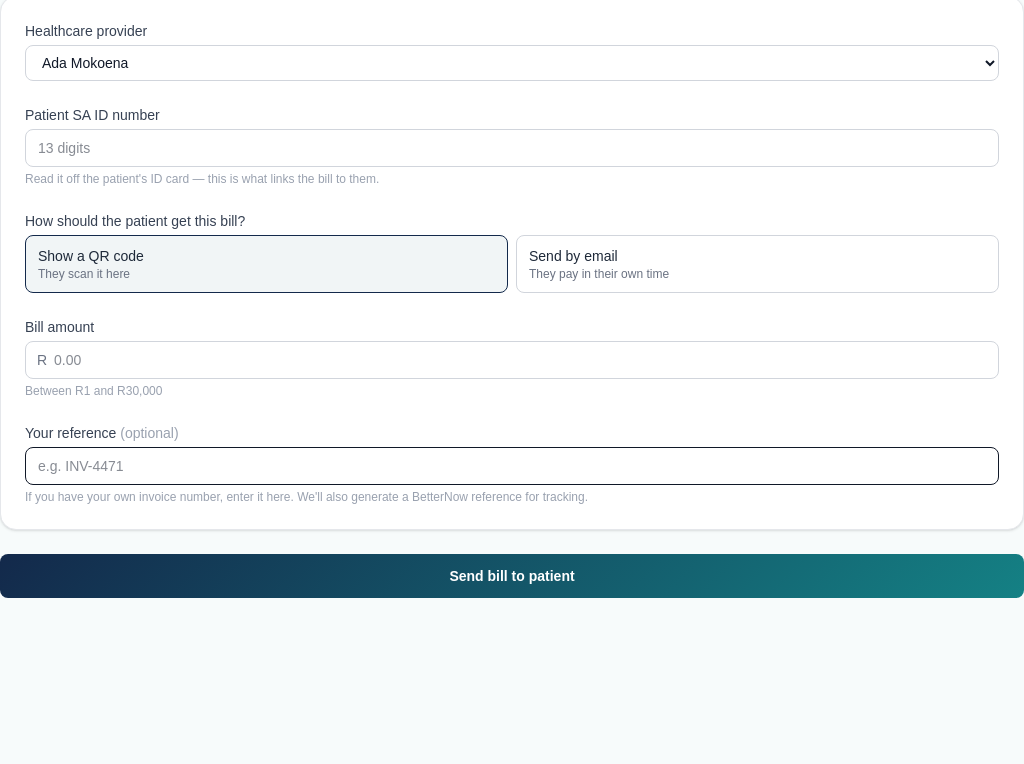
Test: email validation has the same visible treatment (no silent gap) › an empty email is reported inline and blocks submission
Type "9001015800088" into the field with test id "bill-said-input" at (512, 148), box [25,129,999,167]
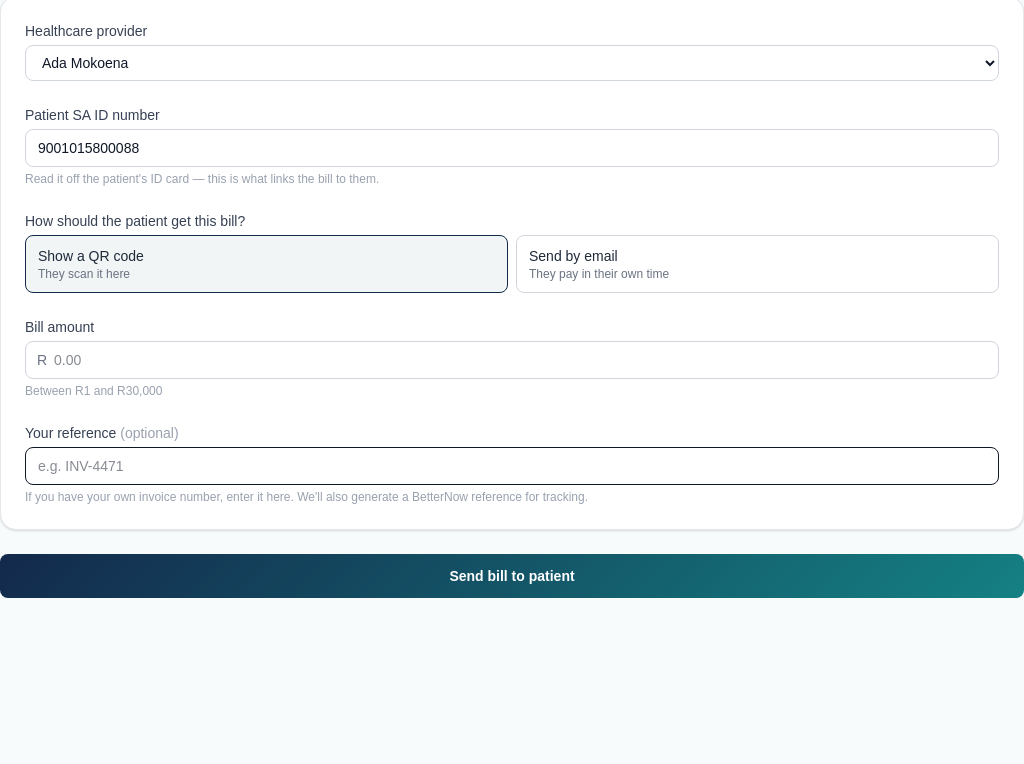
Click the radio button with test id "delivery-email" at (573, 256), box [516,235,999,293]
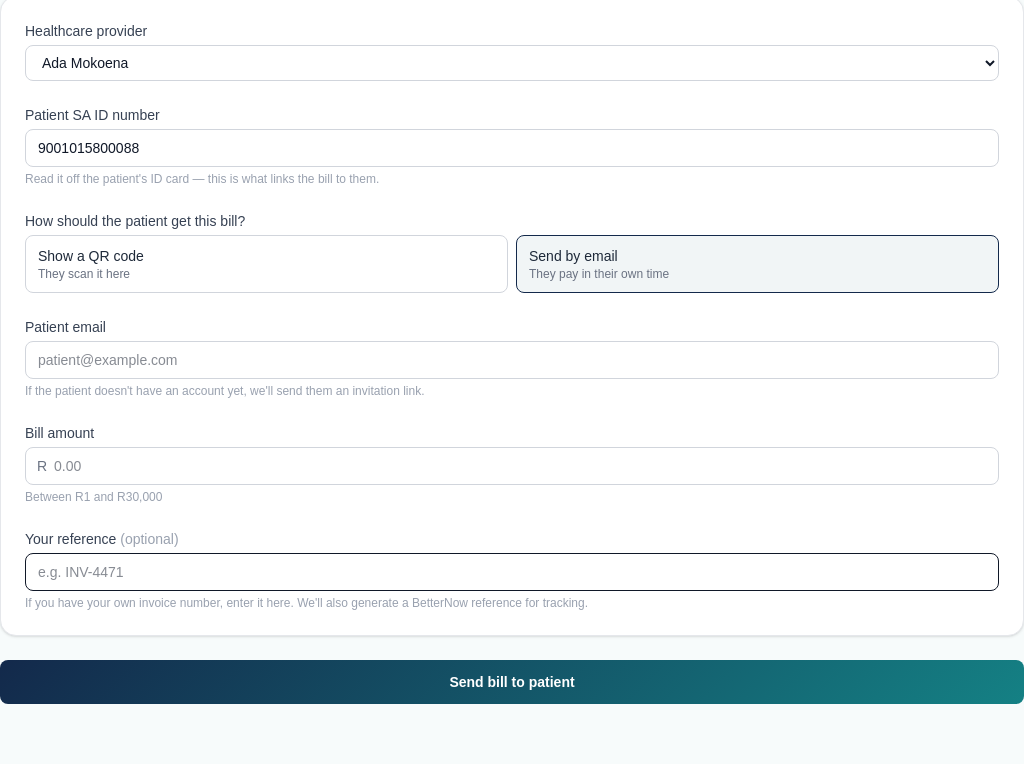
Type "600" into the number field labelled "Bill amount" at (512, 466), box [25,447,999,485]
(page scrolled)
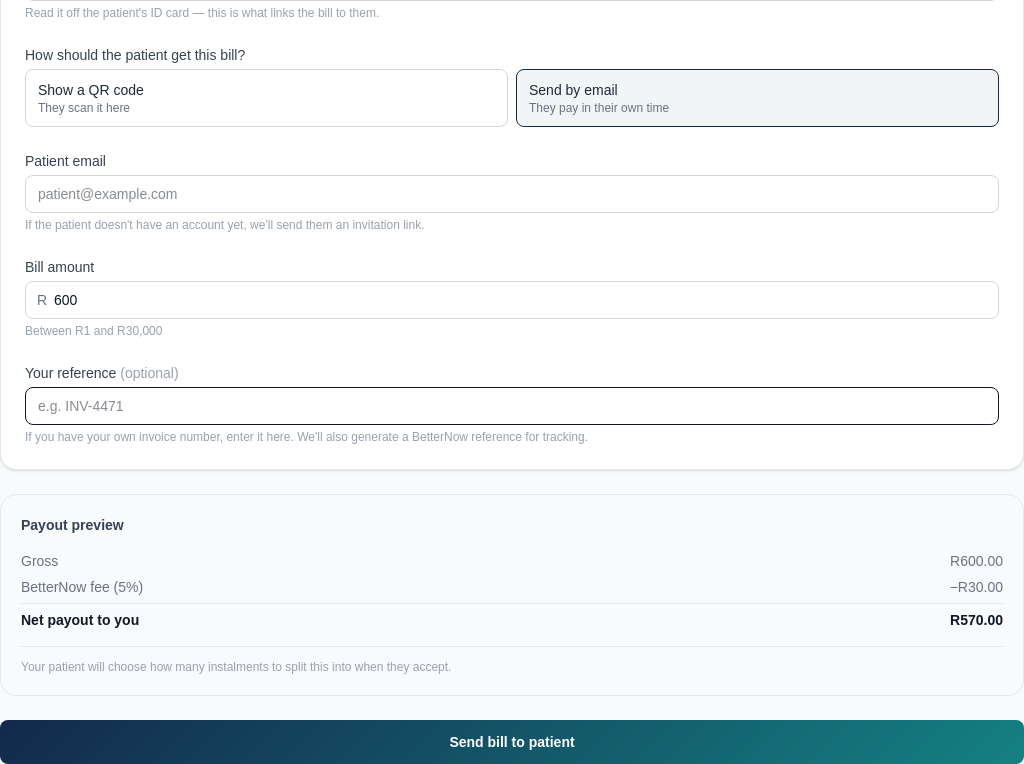
Click the button with test id "submit-bill" at (512, 742), box [0,720,1023,763]
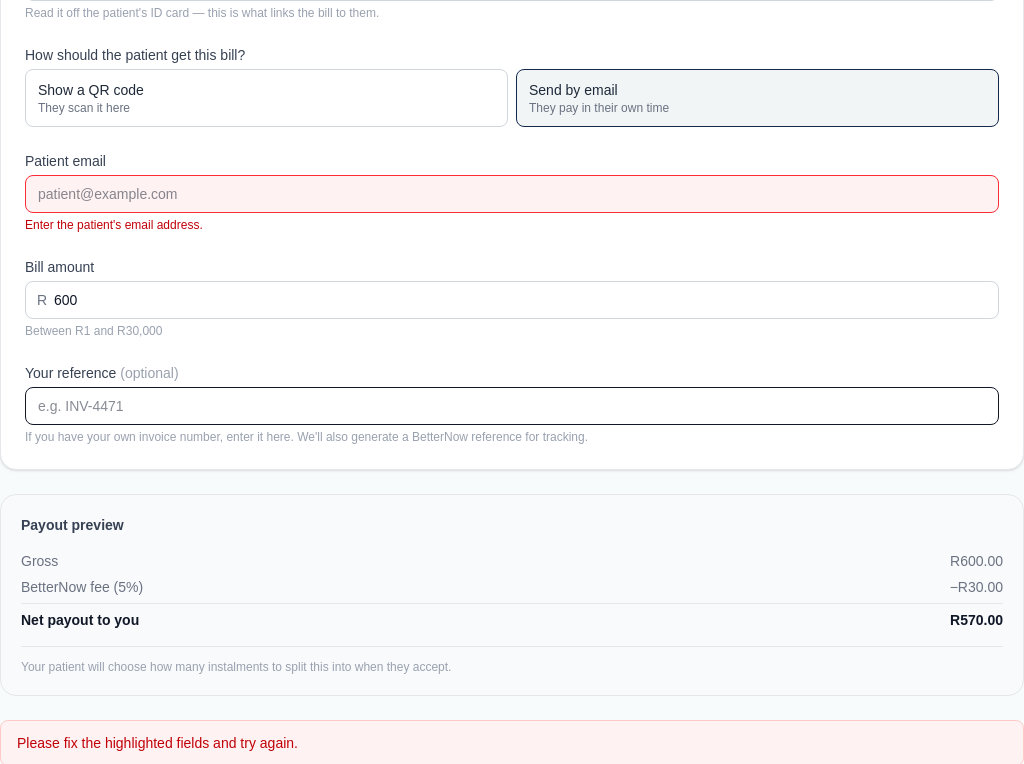
Result: the message with test id "email-error" shows "Enter the patient" at [25,218,203,232]
